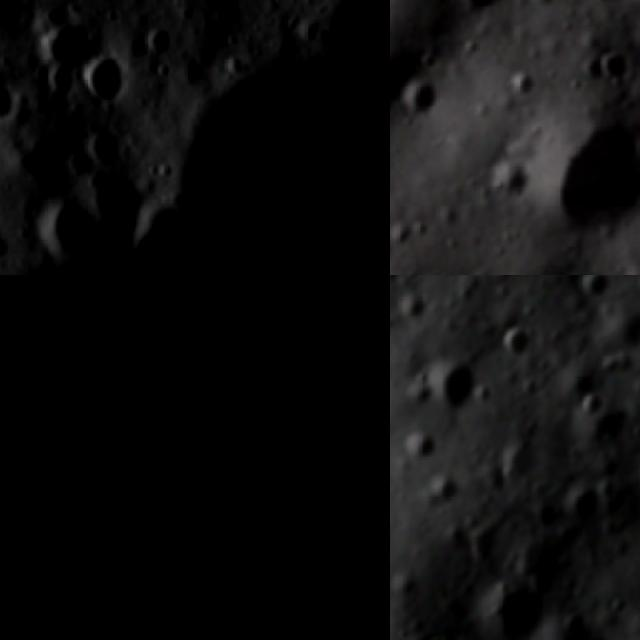crater: (533, 113, 640, 242), (27, 344, 120, 450), (253, 275, 373, 341), (23, 4, 108, 89), (26, 191, 110, 274), (421, 349, 495, 416), (476, 580, 557, 640), (72, 45, 142, 112), (132, 537, 202, 604), (507, 526, 578, 590), (81, 120, 147, 180), (283, 427, 342, 483), (392, 426, 448, 476), (134, 15, 183, 67), (0, 0, 45, 54), (420, 474, 470, 517), (496, 320, 540, 368), (0, 472, 24, 551), (402, 82, 438, 134), (594, 52, 632, 93), (0, 74, 28, 129), (568, 386, 612, 421), (157, 501, 196, 540), (493, 165, 530, 203), (572, 275, 621, 303), (165, 275, 214, 295), (111, 625, 162, 640), (456, 0, 505, 12)
